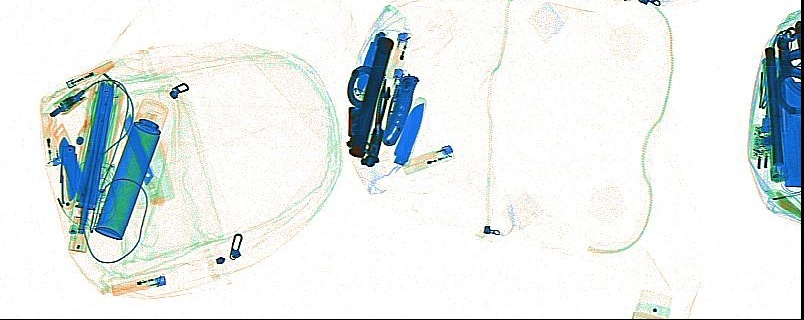handcuffs: (345, 64, 391, 168), (773, 19, 799, 117)
knife: (119, 108, 165, 204), (51, 121, 88, 201), (381, 72, 420, 146), (392, 95, 423, 165), (355, 30, 386, 95), (61, 143, 78, 209)
lighter: (401, 145, 456, 174), (64, 58, 116, 88), (110, 274, 167, 296), (40, 111, 63, 165), (386, 31, 411, 80)
pressure: (94, 95, 168, 240)
